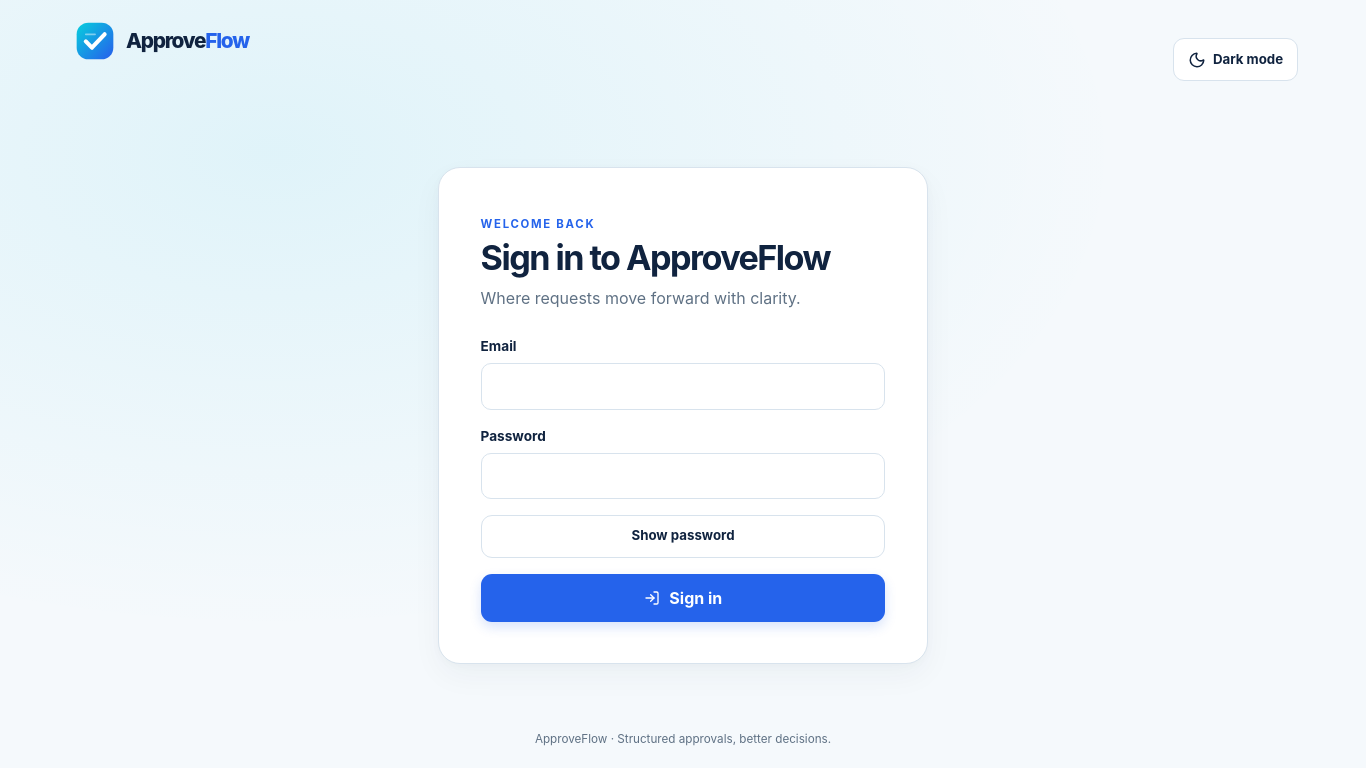
Scenario: G3 user journeys › logs in and renders the requester workspace
Type "sarah@example.test" into the field labelled "Email" at (683, 386), box [481,363,885,410]
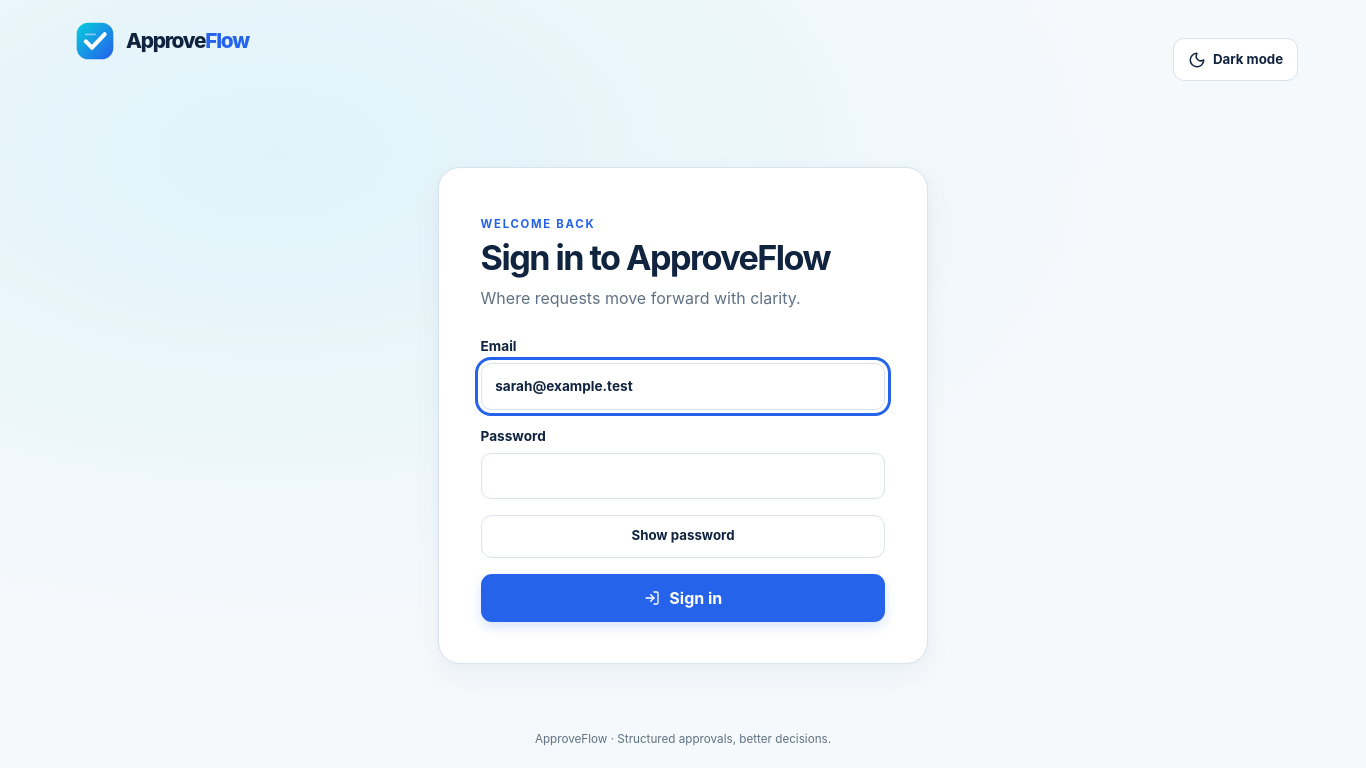
Type "password" into the password field labelled "Password" at (683, 476), box [481,453,885,499]
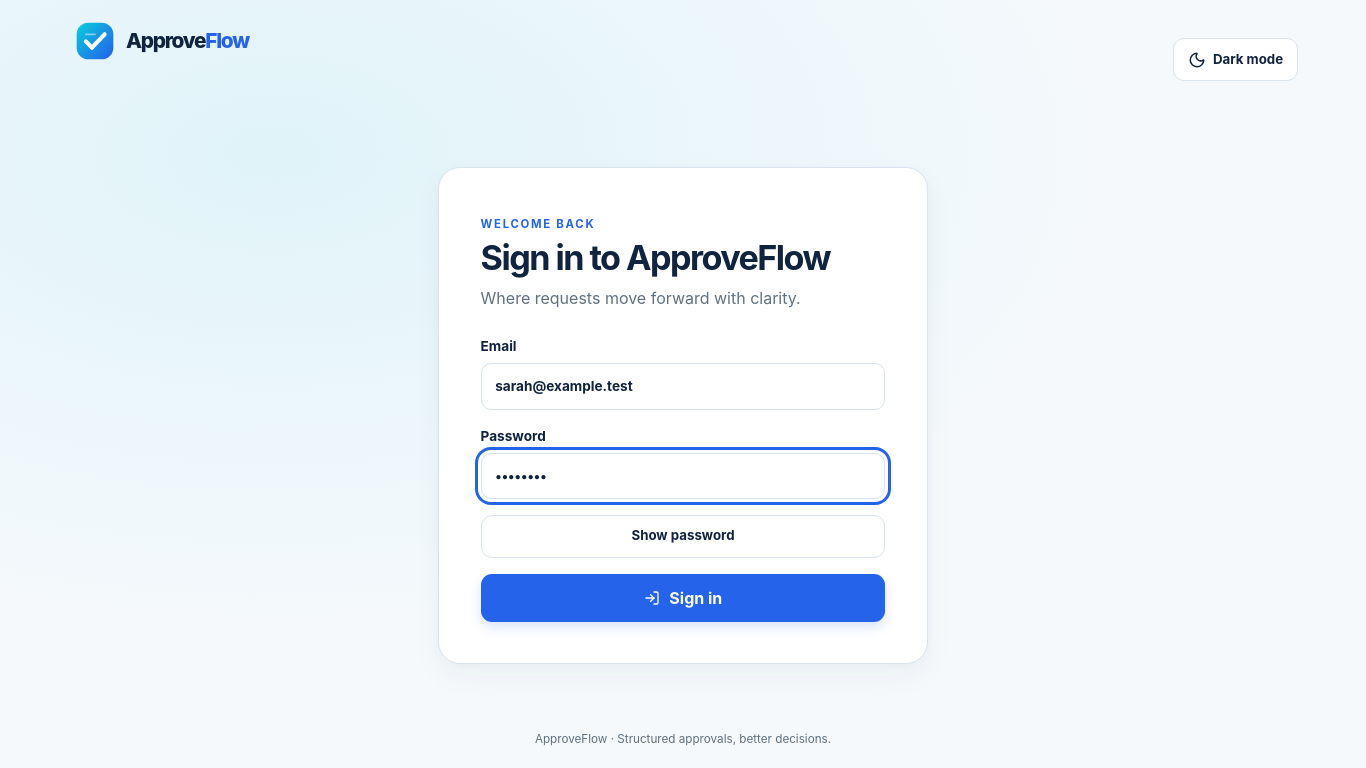
Click the button "Sign in" at (683, 598), box [481,574,885,622]
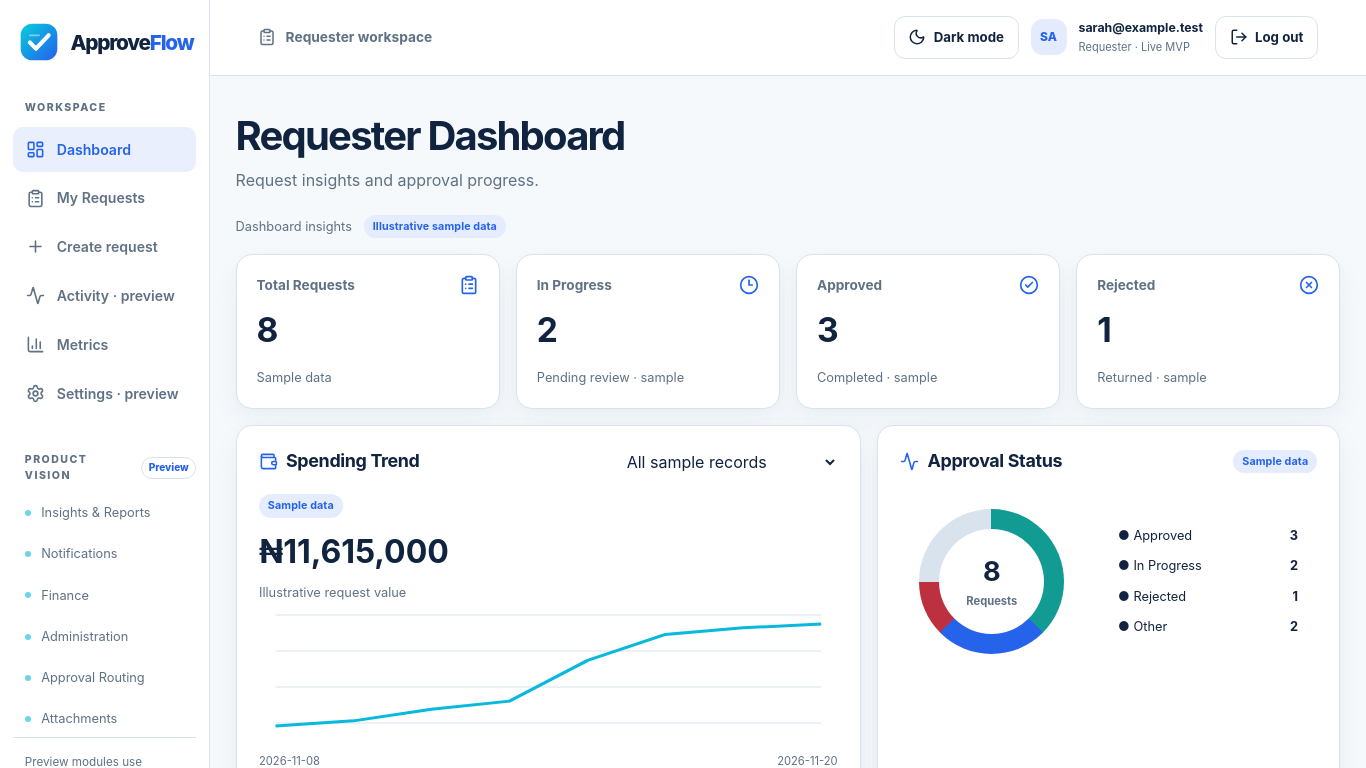
Result: the heading "Requester Dashboard" is shown at [236,113,624,159]
